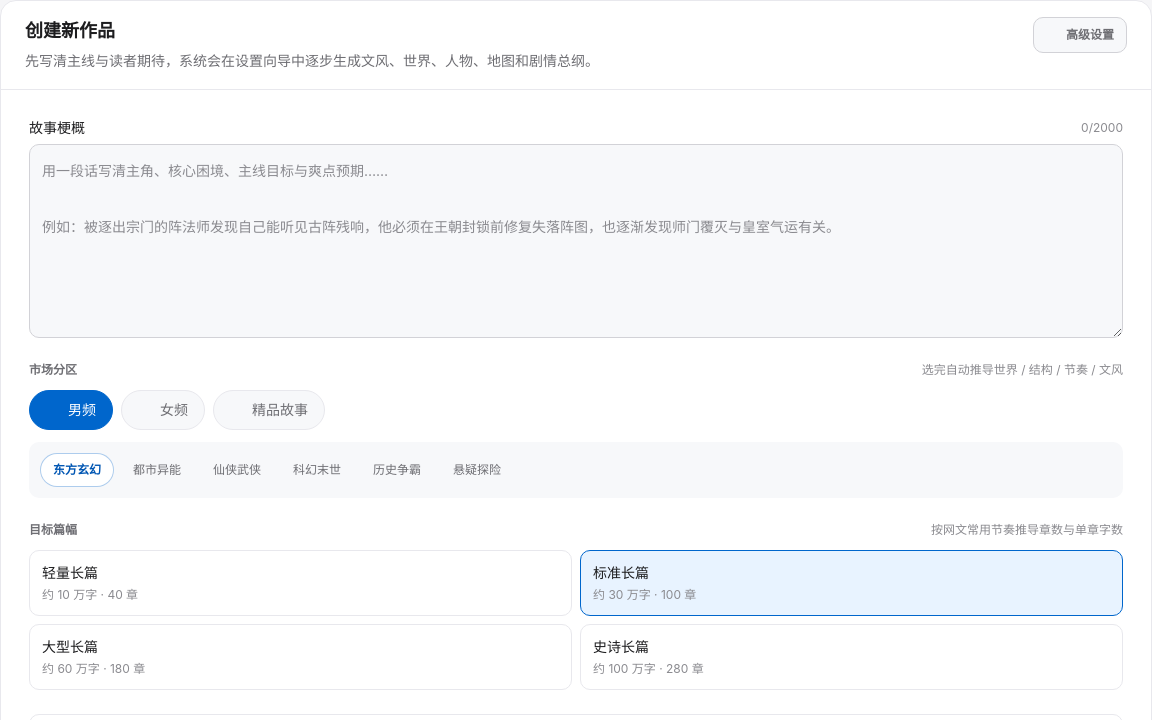
it: NovelCreatePage 表单 › 换市场分区连带把世界、结构、节奏、文风与细分主题一起推导出来
Expected: the button "东方玄幻" is shown, top-left (41, 454), bottom-right (113, 486)
Click the button "女频": (163, 410) top-left (121, 390), bottom-right (205, 430)
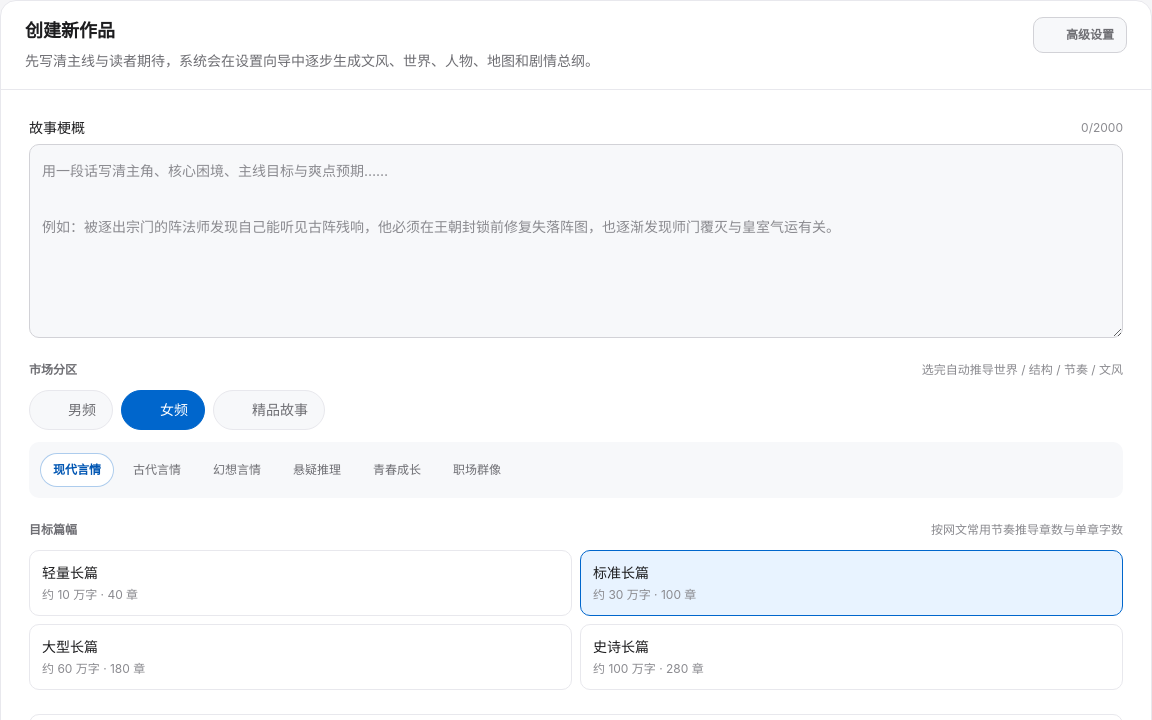
Expected: the button "现代言情" is shown, top-left (41, 454), bottom-right (113, 486)
Expected: the button "古代言情" is shown, top-left (121, 454), bottom-right (193, 486)
Expected: the button "东方玄幻" is gone
